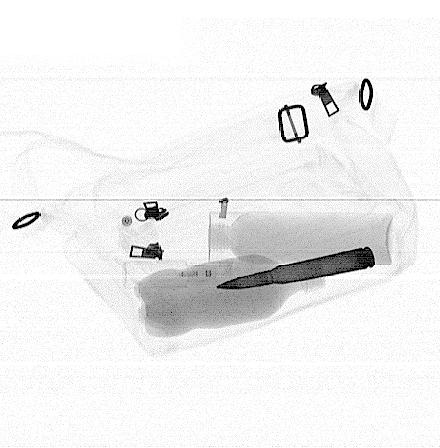Bullet: (216, 246, 376, 290)
